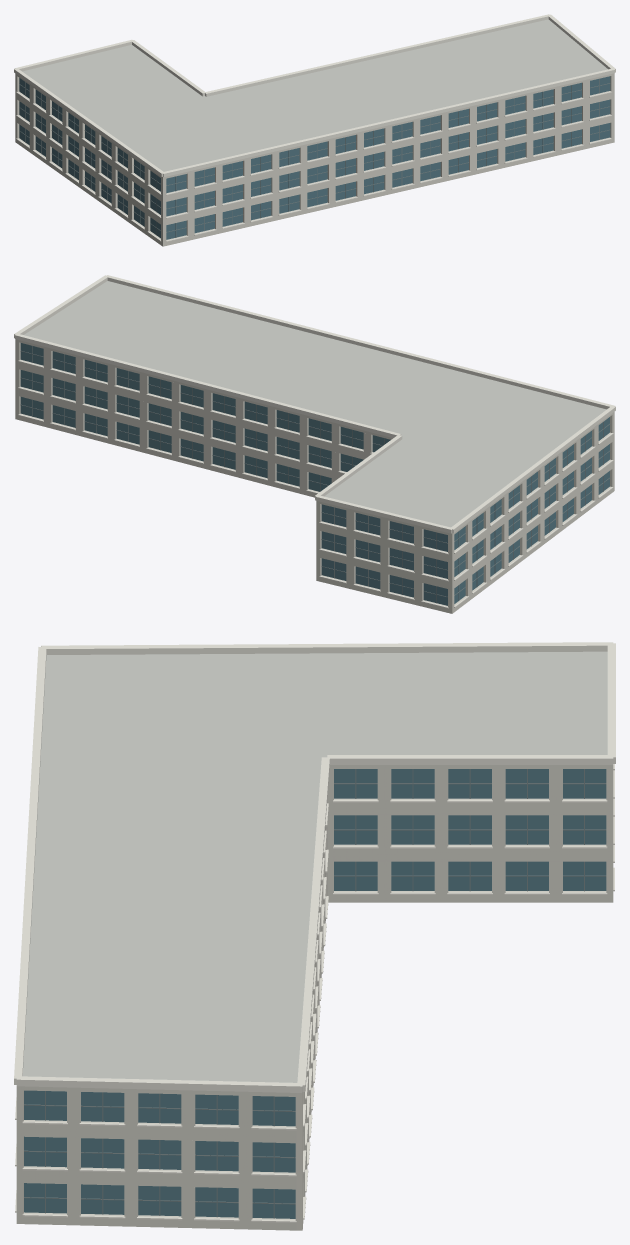
3 renders of one model, top to bottom at view 1: azimuth 30°, elevation 25°; view 2: azimuth 150°, elevation 25°; view 3: azimuth 270°, elevation 25°, orthographic. The views are drawn at different scales.
Parts seen in each view (by area): view 1: roof, wall, glass, trim, metal; view 2: roof, wall, glass, trim, metal; view 3: roof, wall, glass, trim, metal.
Boxes of the visible parts, box(x1,y1,x2,y2) form: roof: box(22, 19, 607, 171); wall: box(15, 73, 614, 246); glass: box(19, 76, 610, 239); trim: box(14, 14, 615, 241); metal: box(19, 78, 610, 237); roof: box(24, 281, 606, 527); wall: box(15, 339, 614, 613); glass: box(20, 343, 609, 605); trim: box(14, 275, 615, 608); metal: box(20, 346, 609, 603); roof: box(22, 651, 607, 1082); wall: box(16, 765, 613, 1230); glass: box(24, 769, 606, 1218); trim: box(14, 642, 615, 1222); metal: box(24, 769, 606, 1218).
Bounding box in the file's own units: 63.82 × 9.74 × 36.54.
